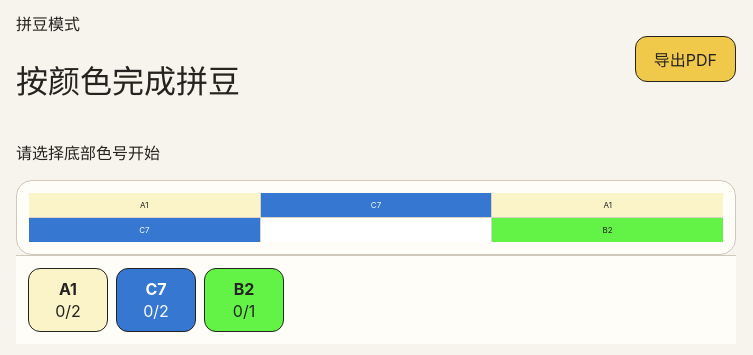
marks a focused cell complete without editing its color
What coordinates should you click on to do the following:
click the button named "选择 C7 0/2"
I would click on:
 (156, 300)
Its box is [116,268,196,332].
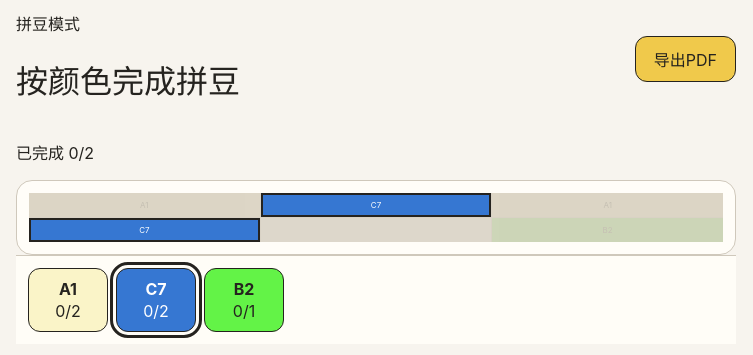
What coordinates should you click on to do the following:
click the cell named "第1行第2列 C7"
I would click on:
 (376, 205)
Its box is [261,193,491,217].
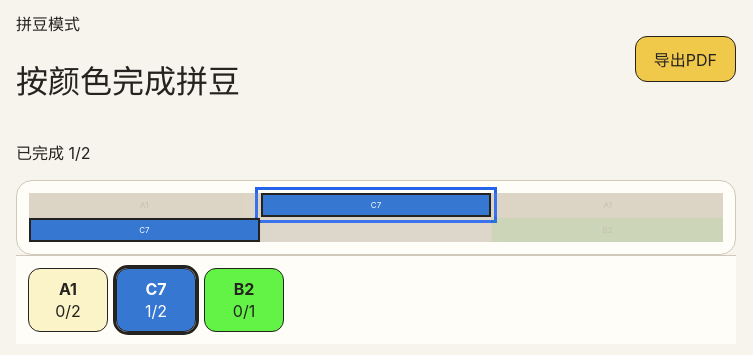
Now the button named "选择 C7 1/2" is shown, box [116,268,196,332]
Now the message reads "已完成 1/2", box [16,143,90,163]
